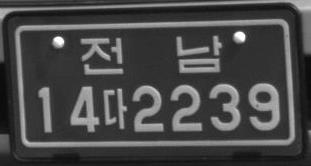1: (31, 85, 59, 134)
2: (169, 83, 203, 133), (131, 84, 164, 132)
3: (208, 82, 242, 132)
4: (68, 85, 100, 133)
9: (247, 82, 281, 133)
다: (102, 87, 128, 130)
전남_D: (79, 34, 223, 75)
